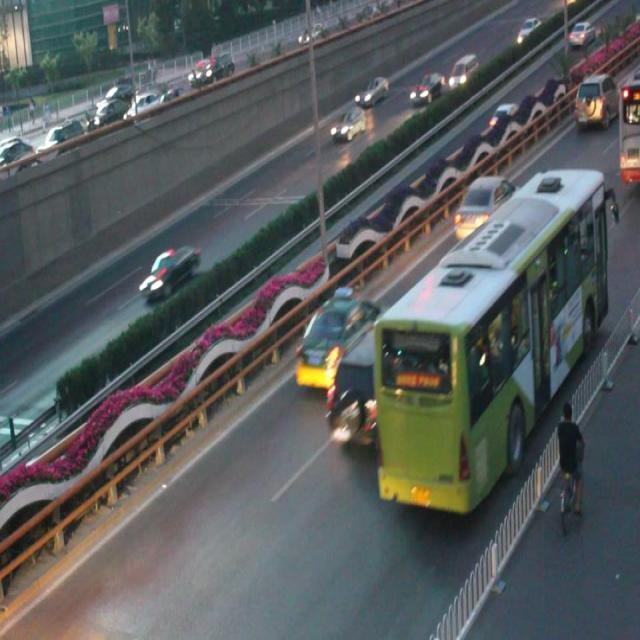car: (315, 336, 432, 464), (293, 291, 378, 390), (453, 170, 516, 245), (139, 245, 199, 303), (483, 104, 528, 150), (329, 106, 368, 144), (409, 72, 444, 108), (353, 75, 388, 110)
truck: (446, 54, 478, 89)
van: (377, 165, 608, 514), (615, 76, 640, 186)
